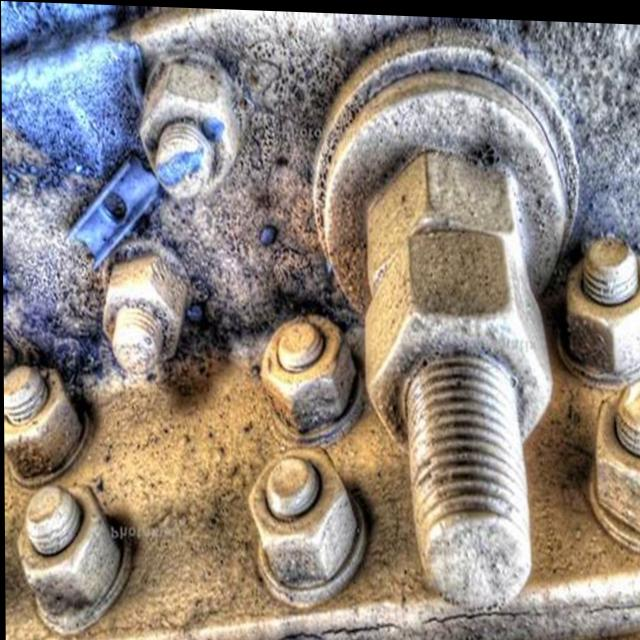Regular bolt: (364, 230, 551, 472), (362, 145, 523, 292), (139, 54, 242, 200), (249, 447, 355, 582), (15, 478, 119, 609), (260, 306, 356, 430), (569, 233, 640, 371), (101, 253, 187, 365), (3, 365, 80, 477), (591, 372, 640, 537)
